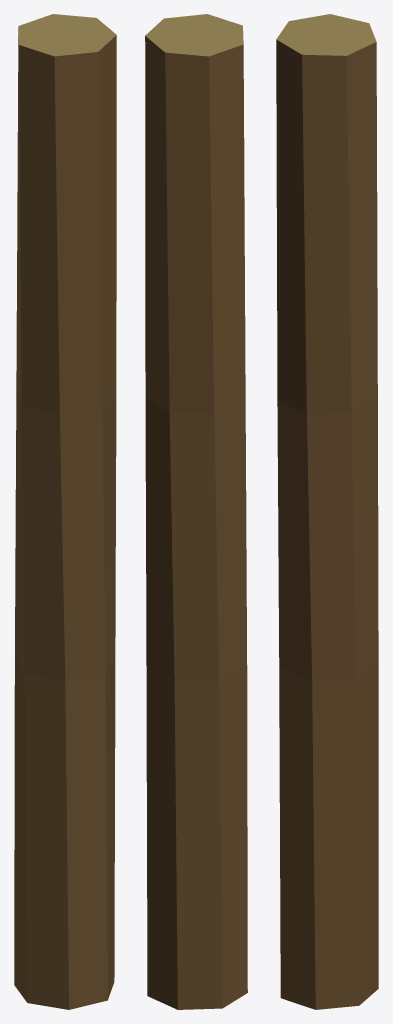
Rendered from single_flat_palisade.fbx.
3 renders of one model, left to right at view 1: azimuth 30°, elevation 25°; view 2: azimuth 210°, elevation 25°; view 3: azimuth 270°, elevation 25°, orthographic.
Parts seen in each view (by area): view 1: Cylinder; view 2: Cylinder; view 3: Cylinder.
Boxes of the visible parts, x1,y1,x2,y2 form: Cylinder: (14, 14, 116, 1009); Cylinder: (145, 14, 247, 1009); Cylinder: (276, 14, 378, 1009).
Size of the model in its own units: 72.35 by 747 by 72.81.
